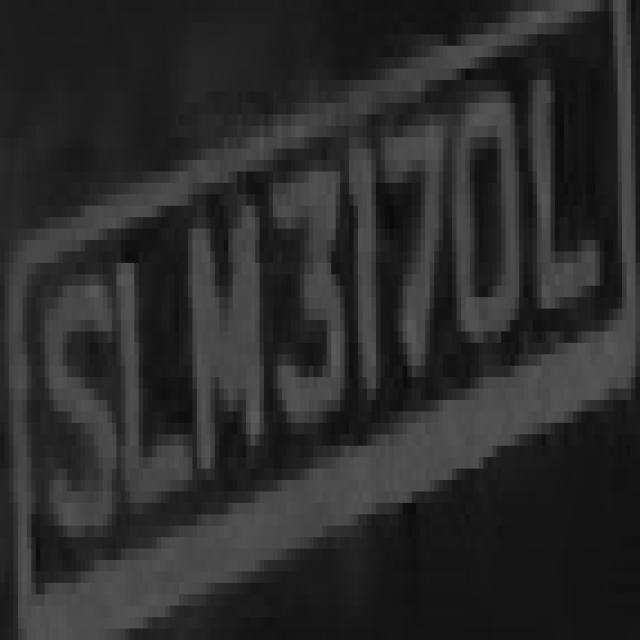0: (443, 57, 524, 366)
1: (336, 103, 389, 468)
3: (260, 126, 349, 503)
7: (371, 148, 452, 468)
L: (515, 11, 613, 332), (107, 172, 188, 537)
M: (179, 183, 269, 491)
S: (32, 240, 98, 583)
